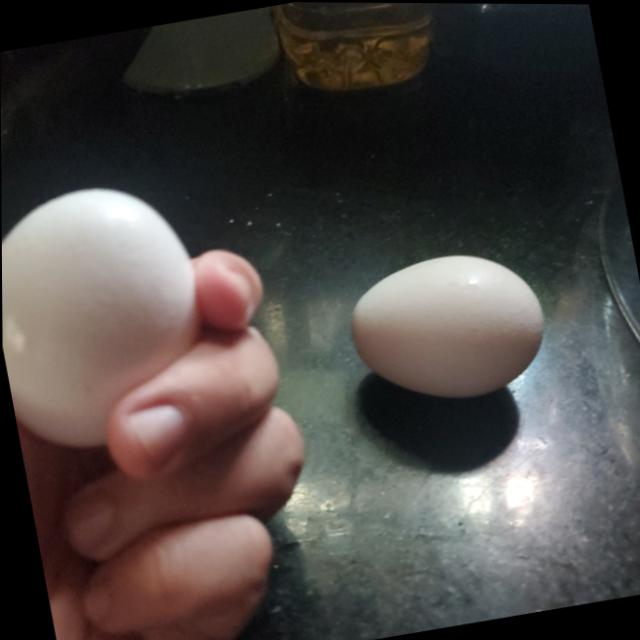egg: (1, 171, 224, 452), (338, 238, 553, 413)
